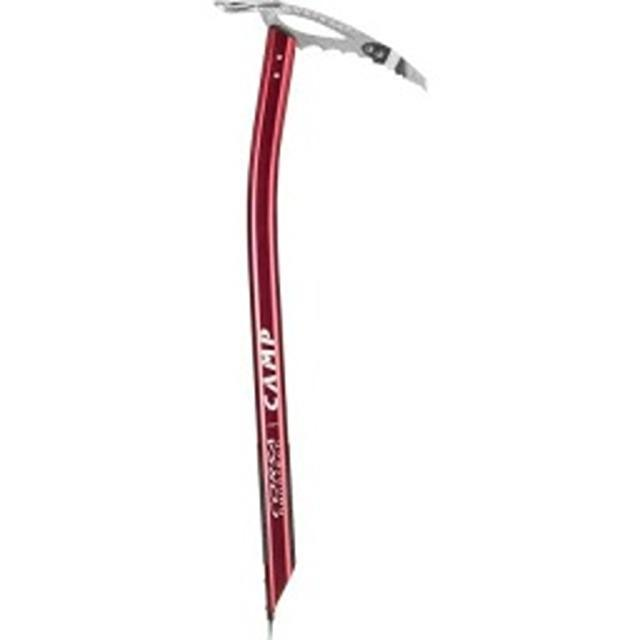ax: (196, 0, 438, 640)
